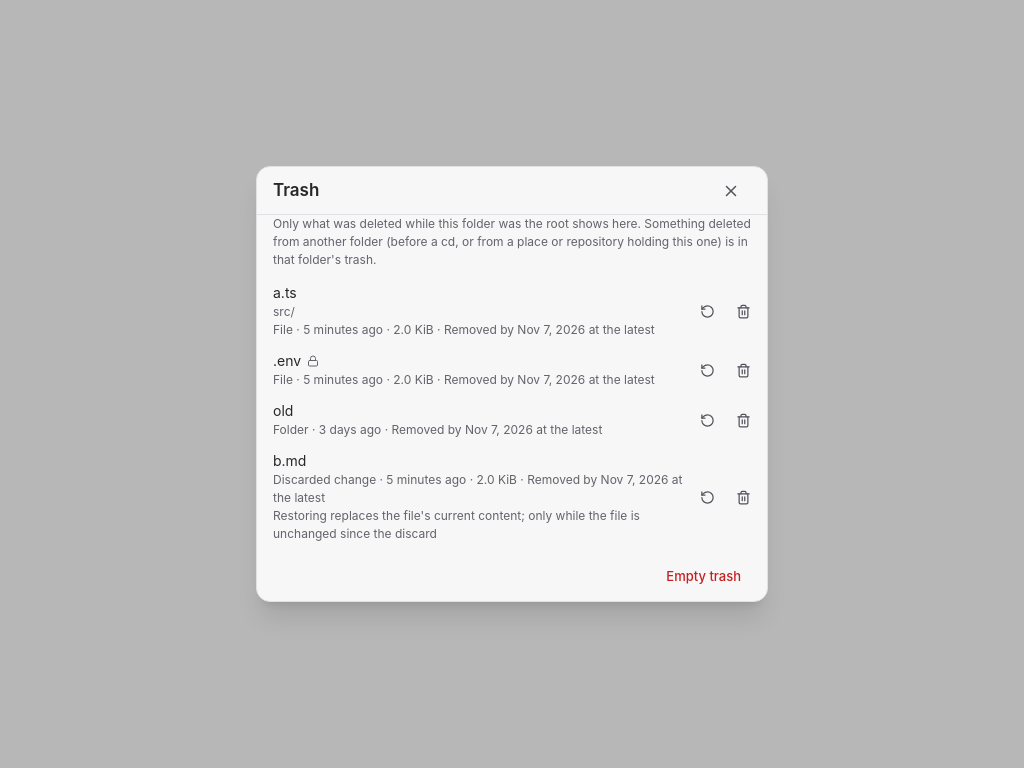
Test: TrashSheet › restores an entry, which leaves the list
Click the button named "Restore a.ts" at (707, 311), box [691,295,723,327]
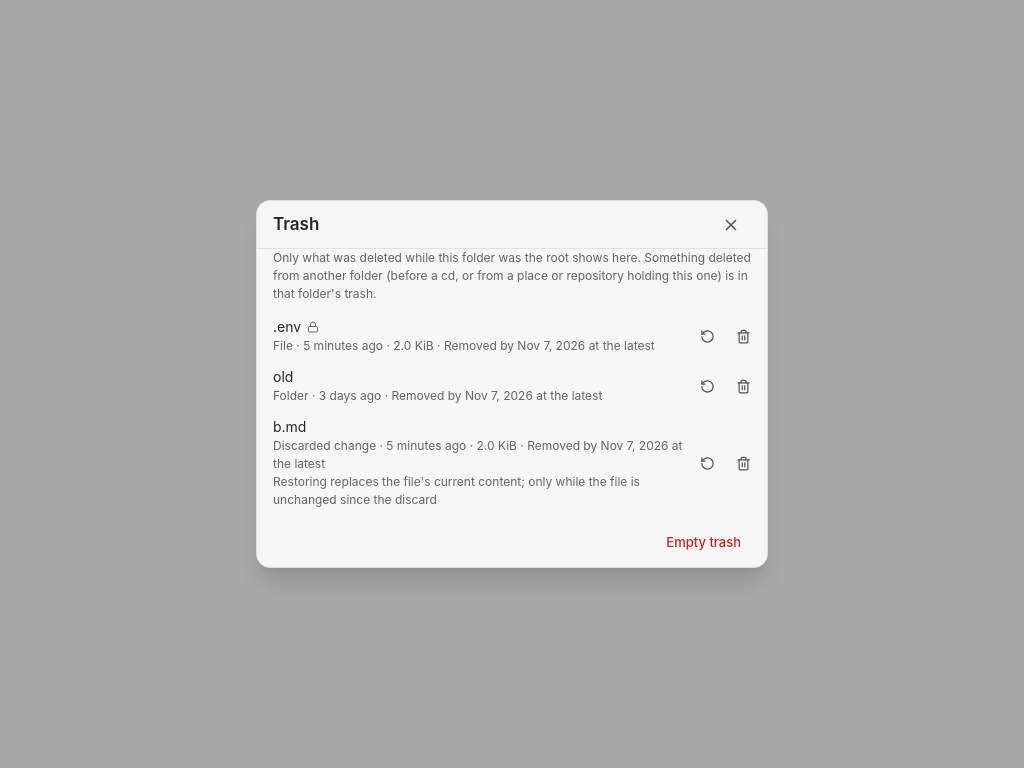
Check: the number of list items is 3, box [257,311,767,361]; [257,361,767,411]; [257,411,767,515]
